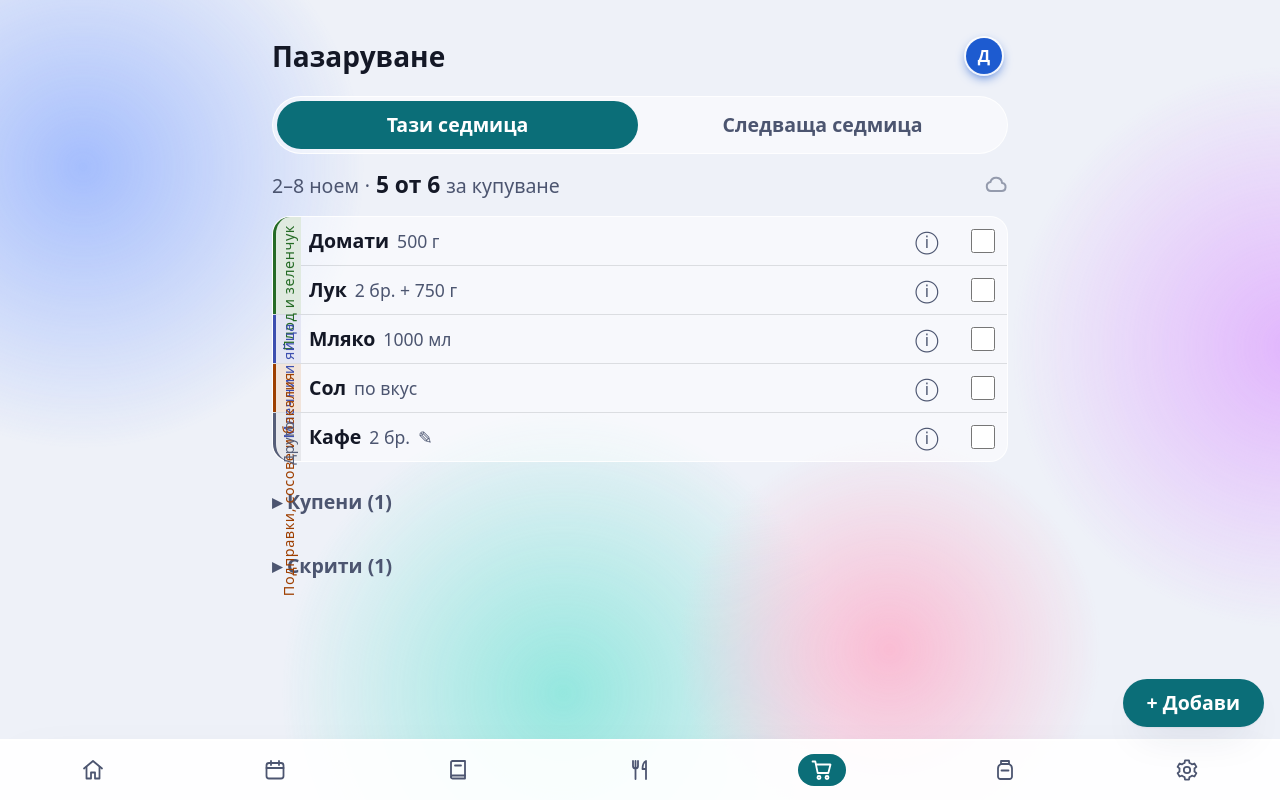
Test: ShoppingWeek › списък: щандовете в реда на api-то, редове с количество и единица, брояч
Expected: the text "5 от 6" is shown, [376,170,440,200]
Expected: the headings read "Плод и зеленчук", "Млечни и яйца", "Подправки, сосове и бакалия", "Друго", in this order, [278,225,298,350]; [278,323,298,438]; [278,372,298,596]; [278,421,298,464]
Click the button "Купени (1)" at (332, 502), box [272,478,392,526]
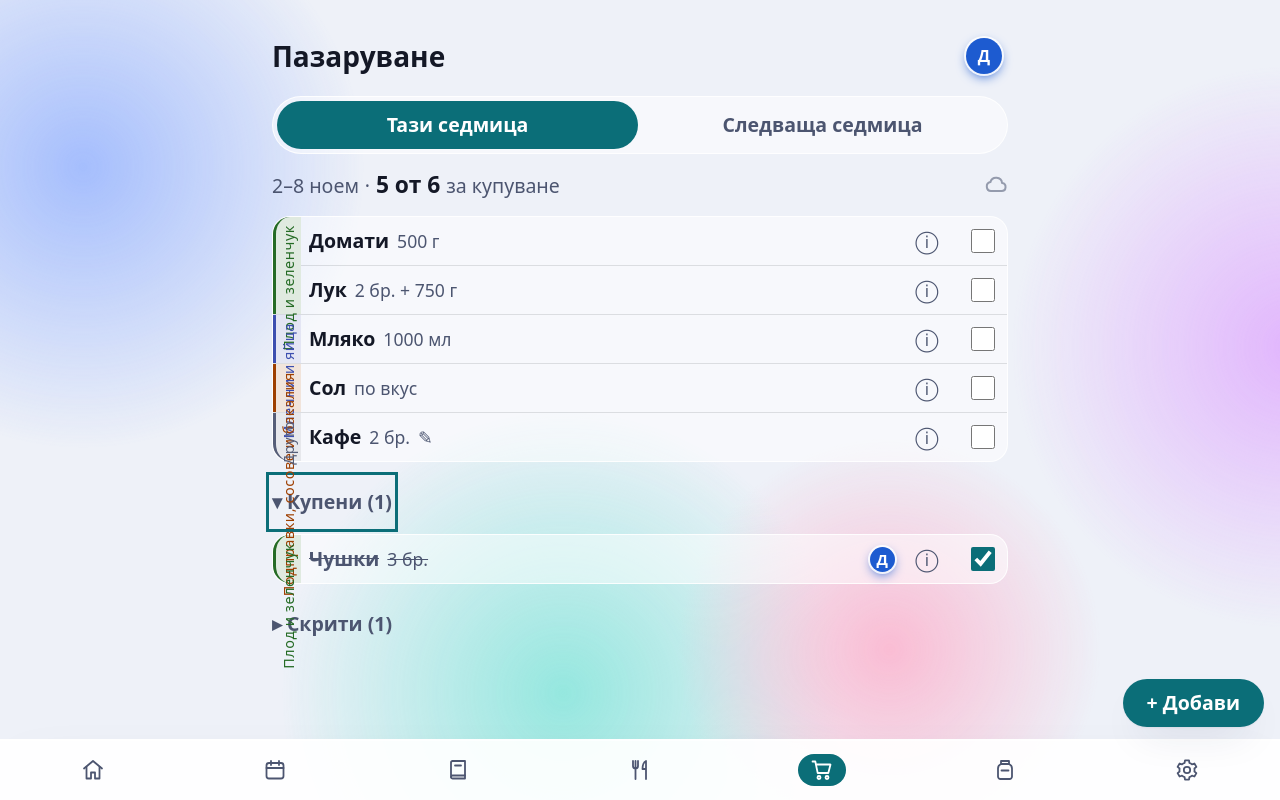
Expected: the list item "Чушки 3 бр. Д ⓘ" is shown, [301,535,1007,583]
Expected: the checkbox labelled "Чушки 3 бр. Д" is checked, [971,547,995,571]
Expected: the element titled "Отметнато от Дани" is shown, [870,545,895,572]
